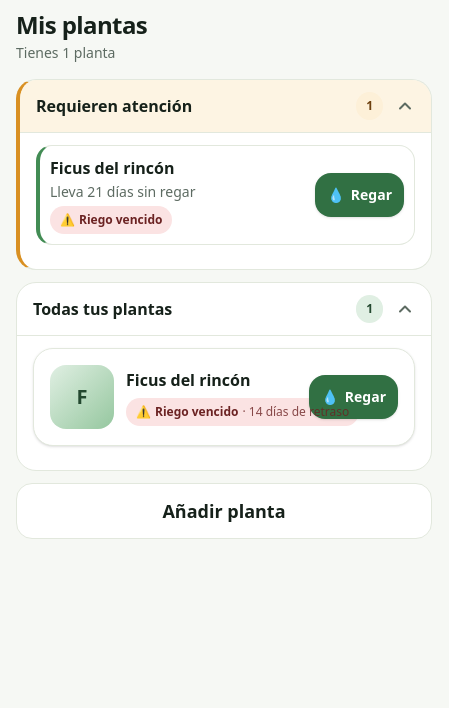
<Inicio> › el aviso de error se puede cerrar
What coordinates should you click on to do the following:
click the 1st button "💧 Regar"
I would click on:
 (360, 195)
Its box is [315, 173, 404, 217].
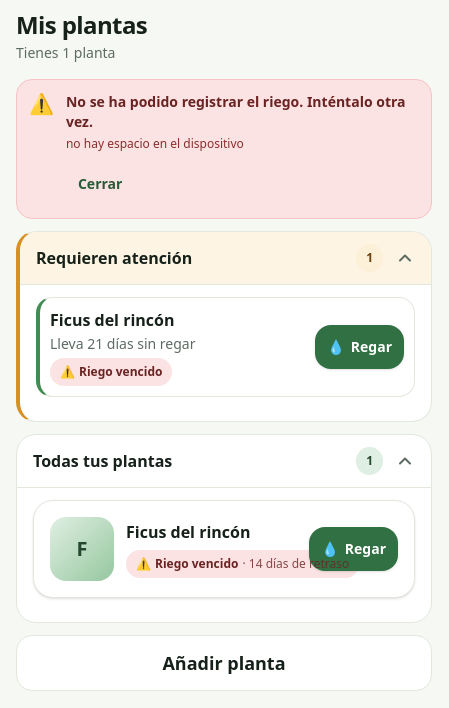
Expected: the message is shown, [16, 79, 432, 218]
What coordinates should you click on to do the following:
click the button "Cerrar"
I would click on:
 (100, 184)
Its box is [66, 162, 134, 206].
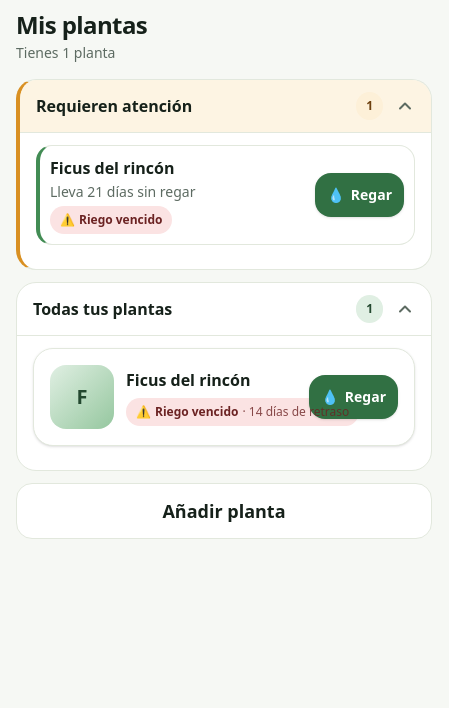
Expected: the message "⚠️ No se ha podido registrar el riego. Inténtalo otra vez. no hay espacio en el" is gone
